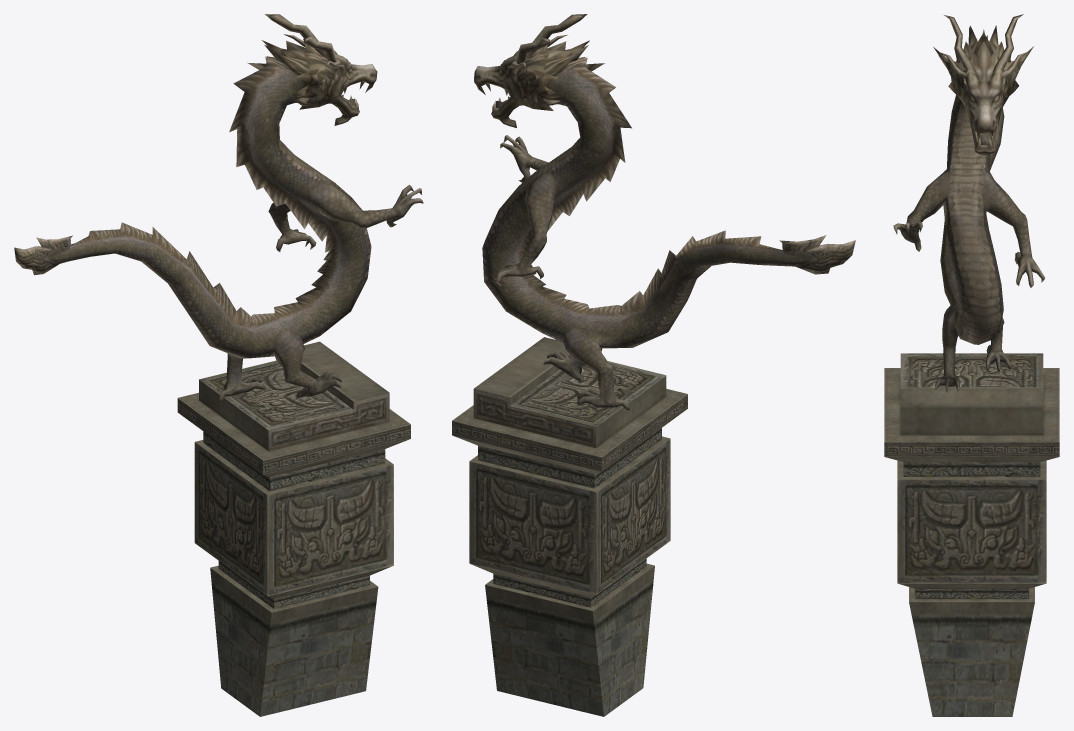
The model's file is zl_llzj_zw_diao_xiang_003_lod0.FBX.
3 views of the same model, side by side, from view 1: azimuth 30°, elevation 25°; view 2: azimuth 150°, elevation 25°; view 3: azimuth 270°, elevation 25° (orthographic). The views are drawn at different scales.
Visible parts, largest first — view 1: zl_llzj_zw_diao_xiang_003_lod0; view 2: zl_llzj_zw_diao_xiang_003_lod0; view 3: zl_llzj_zw_diao_xiang_003_lod0.
Part boxes in pixels (box(x1,y1,x2,y2)): zl_llzj_zw_diao_xiang_003_lod0: box(14, 14, 423, 716); zl_llzj_zw_diao_xiang_003_lod0: box(452, 14, 855, 716); zl_llzj_zw_diao_xiang_003_lod0: box(884, 14, 1059, 716).
Size of the model in its own units: 2.85 by 4.74 by 1.11.
